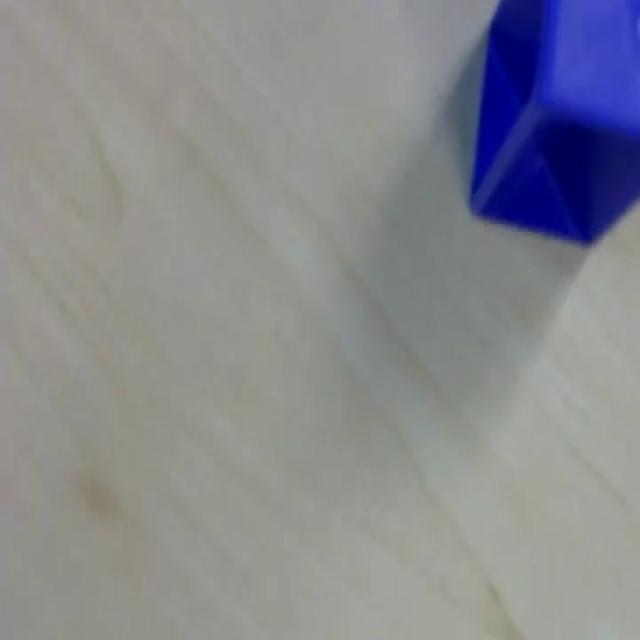blue_block: (466, 0, 638, 247)
